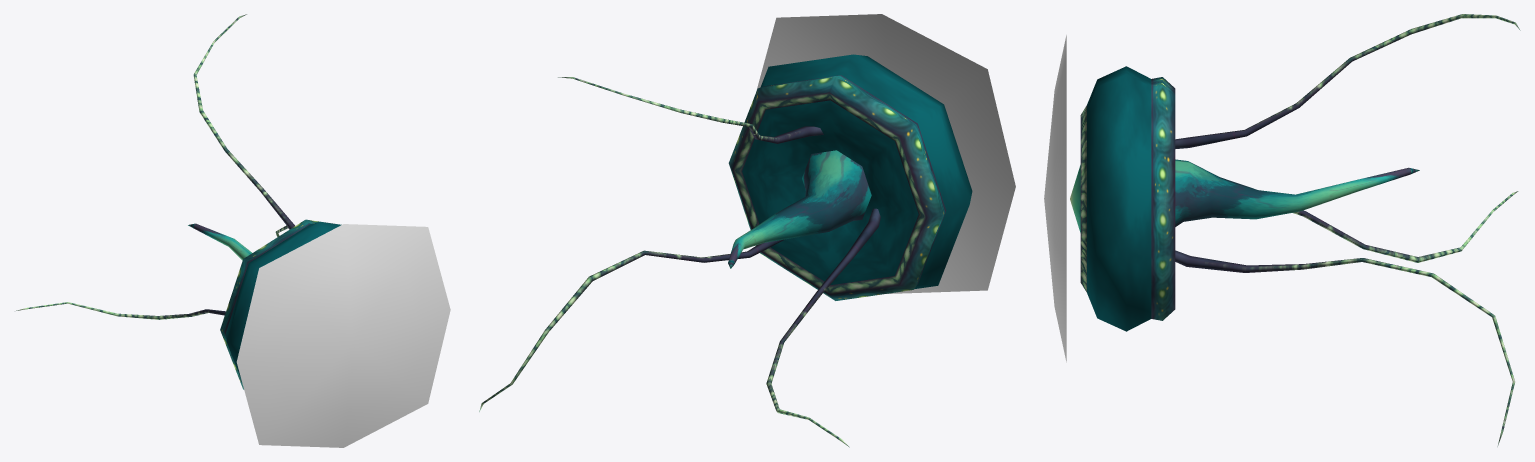
Rendered from Bio_Arti_01.fbx.
3 renders of one model, left to right at view 1: azimuth 30°, elevation 25°; view 2: azimuth 150°, elevation 25°; view 3: azimuth 270°, elevation 25°, orthographic. The views are drawn at different scales.
Visible parts, largest first — view 1: Bio_Arti_01_scrn, Bio_Arti_01; view 2: Bio_Arti_01, Bio_Arti_01_scrn; view 3: Bio_Arti_01, Bio_Arti_01_scrn.
Boxes of the visible parts, <box> form: Bio_Arti_01_scrn: <box>236,224,450,447</box>; Bio_Arti_01: <box>16,14,341,389</box>; Bio_Arti_01: <box>479,54,972,447</box>; Bio_Arti_01_scrn: <box>756,14,1015,293</box>; Bio_Arti_01: <box>1070,14,1520,446</box>; Bio_Arti_01_scrn: <box>1044,35,1066,362</box>.
Bounding box in the file's own units: 0.3764 × 0.3459 × 0.3991.
